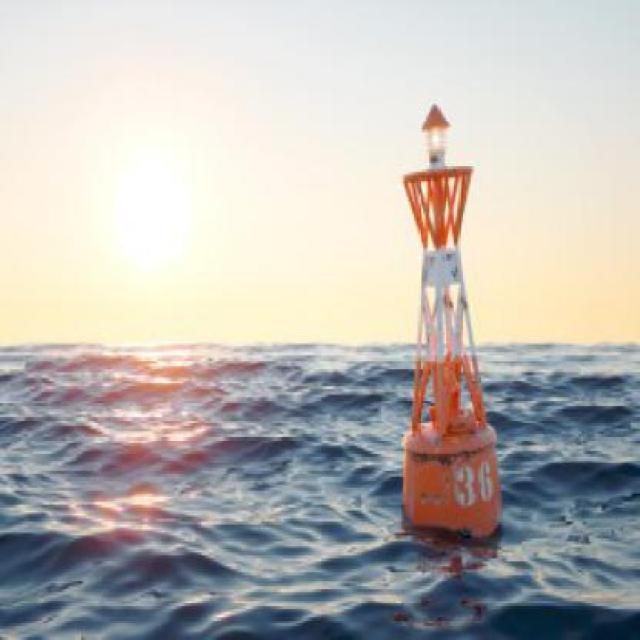buoy: (389, 97, 520, 551)
